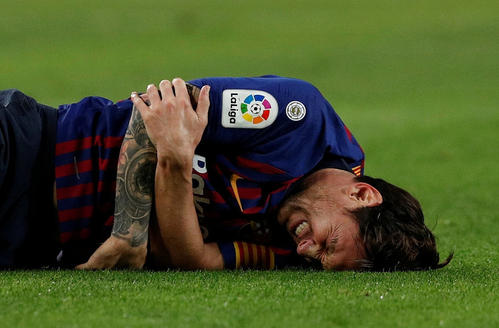fall: (0, 55, 453, 275)
